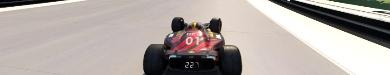Car: (141, 16, 242, 74)
curve: (0, 0, 389, 74)
